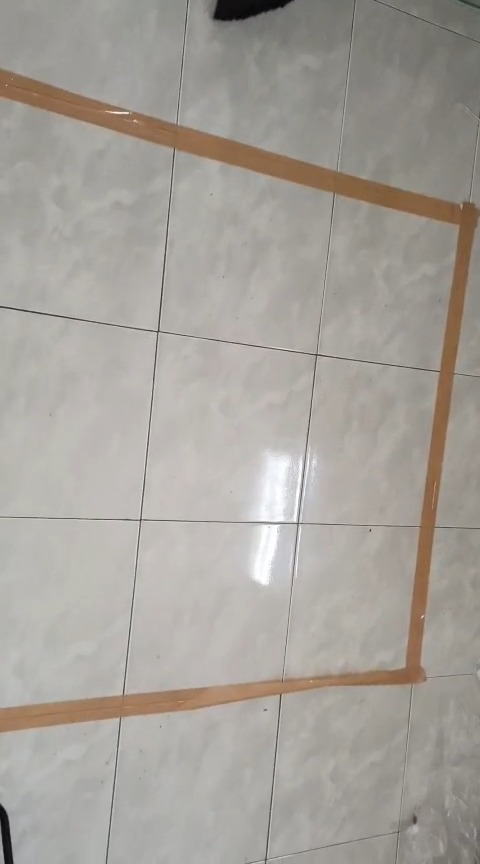floor marking: (0, 70, 477, 731)
